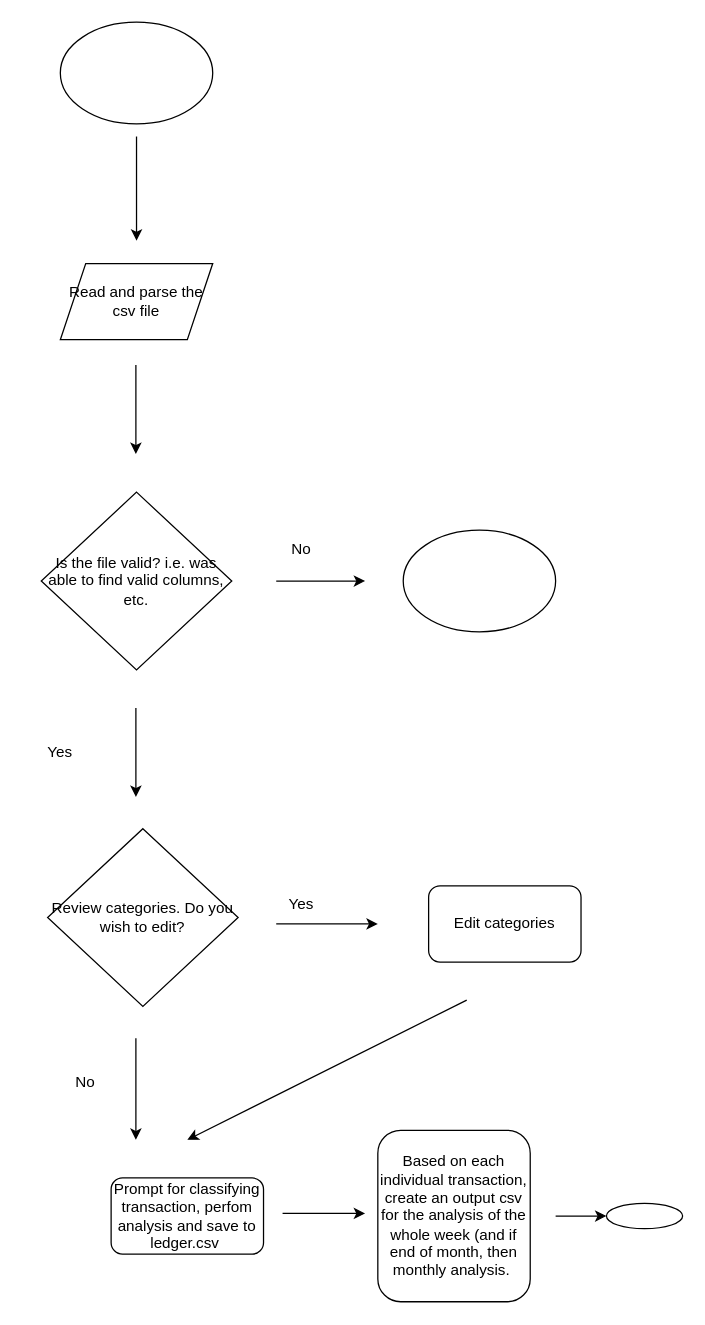
This 705x1325 diagram has some shape labels left out. The box of each missing label's shape, as (x1, y1, x2, y2) in pixels:
end: (605, 1202, 683, 1229)
Print error and end program: (402, 529, 556, 632)
Upload the csv file of expenses and s tart the program: (59, 21, 213, 124)
